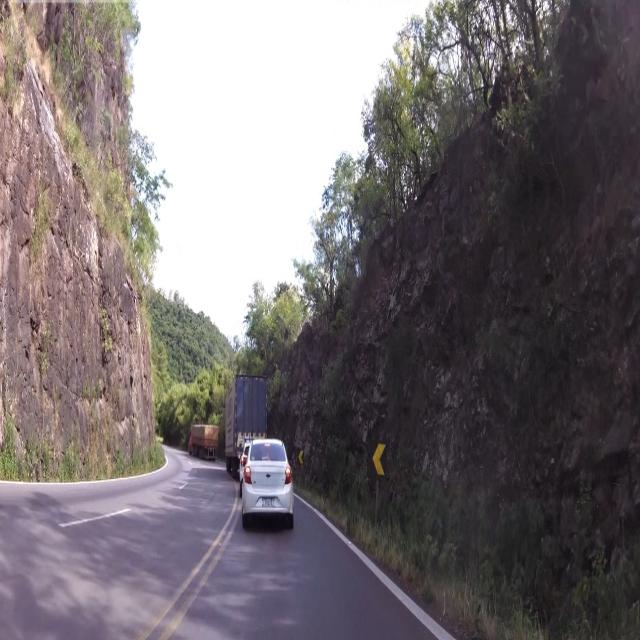Del: (370, 438, 389, 479), (295, 446, 308, 470)
